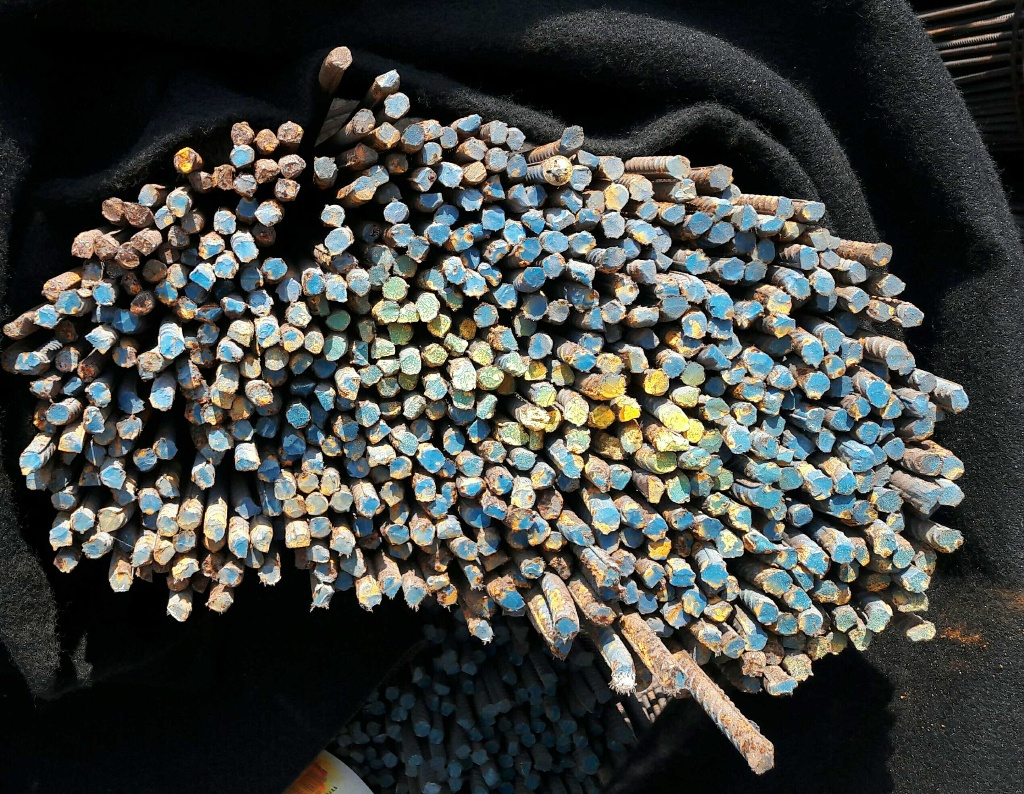dipstick: (538, 487, 566, 521), (494, 420, 529, 446), (744, 347, 770, 379), (724, 424, 751, 454), (185, 337, 212, 366), (707, 162, 734, 191), (717, 530, 744, 558), (278, 153, 307, 179), (462, 268, 488, 297), (496, 585, 525, 611), (665, 474, 691, 503), (341, 546, 366, 576), (735, 300, 762, 327), (785, 653, 812, 680), (655, 429, 688, 451), (519, 403, 548, 428), (615, 274, 639, 304), (358, 576, 380, 608), (198, 231, 224, 258), (515, 238, 541, 265), (705, 343, 732, 369), (605, 184, 630, 212), (55, 291, 84, 315), (442, 255, 465, 285), (87, 328, 113, 354), (285, 522, 311, 548), (234, 236, 261, 261), (137, 352, 162, 379), (326, 229, 353, 254), (569, 524, 596, 549), (558, 453, 585, 478), (670, 178, 697, 203), (522, 293, 547, 320), (603, 436, 630, 461), (79, 463, 103, 491), (468, 341, 496, 365), (569, 262, 597, 286), (751, 745, 775, 773), (417, 293, 439, 323), (748, 486, 781, 506), (549, 553, 574, 579), (566, 427, 591, 453), (804, 373, 829, 399), (113, 342, 137, 369), (478, 259, 502, 286), (420, 446, 444, 473), (592, 507, 619, 531), (114, 416, 142, 439), (82, 536, 110, 559), (568, 233, 596, 256), (710, 292, 733, 320), (696, 517, 724, 540), (762, 572, 790, 595), (571, 288, 600, 310), (235, 197, 260, 222), (458, 187, 483, 212), (346, 269, 371, 294), (323, 277, 348, 302), (531, 464, 556, 489), (599, 155, 624, 180), (719, 258, 744, 283), (123, 200, 147, 226), (453, 364, 477, 390), (503, 352, 529, 376), (687, 212, 713, 236), (255, 202, 282, 225), (188, 264, 215, 287), (182, 380, 209, 403), (306, 490, 329, 517), (371, 300, 398, 323), (336, 373, 359, 400), (544, 159, 571, 182), (679, 313, 706, 336), (934, 528, 961, 551), (349, 338, 371, 366), (386, 323, 414, 345), (662, 603, 690, 625), (647, 614, 675, 636), (745, 532, 774, 553), (233, 173, 258, 197), (228, 322, 252, 347), (86, 381, 111, 405), (248, 382, 273, 406), (329, 532, 353, 557), (374, 122, 399, 146), (314, 154, 338, 179), (522, 209, 546, 234), (478, 366, 503, 390), (512, 486, 536, 511), (661, 353, 685, 378), (704, 492, 729, 516), (213, 209, 236, 235), (284, 303, 310, 326), (257, 320, 280, 346), (118, 271, 144, 294), (485, 175, 508, 201), (601, 247, 627, 270), (707, 316, 733, 339), (611, 669, 637, 692), (663, 668, 686, 694), (799, 609, 822, 635), (771, 366, 797, 389), (15, 352, 42, 374), (203, 513, 225, 540), (478, 528, 500, 555), (867, 379, 889, 406), (366, 446, 394, 467), (465, 506, 493, 527), (547, 208, 575, 229), (521, 266, 549, 287), (660, 295, 688, 316), (786, 436, 814, 457), (590, 462, 610, 491), (769, 678, 798, 698), (899, 592, 928, 612), (278, 327, 302, 351), (113, 308, 137, 332), (41, 280, 65, 304), (159, 336, 183, 360), (422, 268, 446, 292), (468, 418, 492, 442), (682, 362, 706, 386), (788, 274, 812, 298), (883, 345, 907, 369), (165, 262, 188, 287), (70, 510, 95, 533), (190, 466, 215, 489), (438, 162, 461, 187), (481, 207, 504, 232), (442, 284, 465, 309), (474, 303, 497, 328), (482, 438, 505, 463), (563, 125, 586, 150), (494, 284, 517, 309), (600, 374, 625, 397), (590, 403, 613, 428), (622, 505, 647, 528), (649, 537, 672, 562), (840, 342, 863, 367), (778, 466, 803, 489), (828, 496, 853, 519), (133, 231, 159, 253), (118, 391, 144, 413), (27, 379, 53, 401), (526, 183, 548, 209), (504, 219, 526, 245), (482, 239, 508, 261), (369, 245, 395, 267), (443, 430, 465, 456), (681, 280, 707, 302), (704, 564, 726, 590), (879, 273, 905, 295), (766, 291, 792, 313), (96, 509, 123, 530), (541, 232, 568, 253), (449, 402, 476, 423), (687, 249, 708, 276), (786, 589, 813, 610), (49, 492, 77, 512), (48, 528, 76, 548), (645, 475, 665, 503), (329, 46, 352, 70), (231, 121, 254, 145), (172, 147, 195, 171), (252, 221, 276, 244), (129, 291, 153, 314), (182, 402, 206, 425), (149, 387, 173, 410), (133, 448, 157, 471), (257, 560, 280, 584), (385, 93, 408, 117), (321, 204, 345, 227), (355, 401, 379, 424), (513, 447, 536, 471), (457, 537, 480, 561), (476, 596, 499, 620), (802, 202, 826, 225), (570, 347, 594, 370), (565, 398, 588, 422), (645, 371, 669, 394), (645, 517, 668, 541), (597, 528, 620, 552), (802, 342, 825, 366), (873, 531, 896, 555), (212, 165, 234, 190), (276, 280, 301, 302), (94, 236, 116, 261), (54, 349, 76, 374), (156, 476, 181, 498), (174, 558, 199, 580), (201, 443, 226, 465), (287, 403, 309, 428), (399, 348, 421, 373), (528, 521, 550, 546), (601, 212, 623, 237), (632, 221, 657, 243), (529, 334, 554, 356), (733, 403, 758, 425), (699, 627, 721, 652), (805, 552, 830, 574), (876, 491, 901, 513), (230, 145, 256, 166), (262, 259, 288, 280), (238, 266, 264, 287), (217, 342, 243, 363), (312, 561, 338, 582), (310, 584, 331, 610), (331, 489, 352, 515), (487, 120, 508, 146), (325, 335, 346, 361), (708, 222, 734, 243), (737, 205, 758, 231), (550, 365, 576, 386), (742, 376, 763, 402), (683, 591, 704, 617), (905, 570, 931, 591), (256, 128, 276, 155), (331, 253, 358, 273), (476, 393, 496, 420), (755, 237, 775, 264), (683, 448, 710, 468), (704, 603, 731, 623), (782, 632, 809, 652), (109, 486, 137, 505), (278, 122, 301, 145), (174, 297, 197, 320), (116, 244, 139, 267), (101, 198, 124, 221), (35, 305, 58, 328), (259, 493, 282, 516), (289, 352, 312, 375), (412, 522, 435, 545), (558, 471, 581, 494), (560, 187, 583, 210), (667, 155, 690, 178), (717, 334, 740, 357), (700, 430, 723, 453), (848, 396, 871, 419), (757, 461, 780, 484), (179, 364, 201, 388), (458, 114, 482, 136), (463, 137, 487, 159), (389, 224, 413, 246), (395, 432, 417, 456), (423, 376, 447, 398), (414, 478, 436, 502), (491, 469, 513, 493), (584, 187, 606, 211), (583, 307, 605, 331), (601, 300, 625, 322), (746, 259, 768, 283), (681, 335, 703, 359), (731, 507, 753, 531), (919, 454, 943, 476), (865, 608, 887, 632), (189, 171, 214, 192), (167, 193, 188, 218), (248, 291, 273, 312), (100, 466, 125, 487), (209, 430, 234, 451), (383, 277, 408, 298), (358, 365, 383, 386), (404, 395, 425, 420), (510, 509, 535, 530), (620, 527, 645, 548), (850, 624, 871, 649), (315, 383, 335, 409), (416, 166, 436, 192), (325, 311, 351, 331), (633, 328, 659, 348), (668, 510, 694, 530), (949, 387, 969, 413), (381, 573, 400, 600), (321, 470, 340, 497), (409, 234, 428, 261), (673, 388, 700, 407), (178, 210, 201, 232), (156, 280, 179, 302), (211, 386, 233, 409), (265, 345, 288, 367), (83, 411, 106, 433), (302, 450, 324, 473), (354, 142, 377, 164), (463, 161, 485, 184), (302, 272, 325, 294), (313, 357, 335, 380), (380, 483, 403, 505), (406, 585, 429, 607), (435, 584, 458, 606), (631, 177, 653, 200), (622, 237, 644, 260), (543, 255, 566, 277), (547, 298, 569, 321), (855, 471, 877, 494), (854, 501, 876, 524), (892, 545, 914, 568), (833, 543, 856, 565), (80, 261, 101, 285), (52, 553, 76, 574), (110, 568, 131, 592), (166, 600, 190, 621), (349, 294, 373, 315), (343, 438, 367, 459), (432, 550, 453, 574), (630, 305, 658, 323), (579, 332, 603, 353), (642, 564, 663, 588), (797, 246, 818, 270), (754, 436, 778, 457), (812, 477, 833, 501), (354, 108, 374, 133), (487, 148, 507, 173), (412, 416, 432, 441), (523, 361, 548, 381), (735, 231, 755, 256), (870, 301, 895, 321), (508, 153, 527, 179), (382, 203, 408, 222), (721, 180, 740, 206), (71, 235, 93, 257), (173, 531, 195, 553), (199, 554, 221, 576), (395, 254, 417, 276), (425, 343, 447, 365), (498, 329, 520, 351), (667, 409, 689, 431), (791, 506, 813, 528), (793, 568, 815, 590), (834, 473, 856, 495), (915, 551, 937, 573), (826, 632, 848, 654), (276, 177, 297, 200), (5, 317, 28, 338), (231, 397, 252, 420), (155, 541, 176, 564), (180, 507, 201, 530), (218, 566, 241, 587), (274, 477, 297, 498), (284, 434, 307, 455), (357, 494, 378, 517), (426, 223, 449, 244), (368, 421, 389, 444), (463, 564, 484, 587), (557, 614, 578, 637), (571, 166, 592, 189), (636, 260, 657, 283), (513, 315, 536, 336), (621, 429, 642, 452), (609, 467, 630, 490), (690, 474, 713, 495), (614, 552, 635, 575), (636, 593, 659, 614), (774, 613, 797, 634), (812, 273, 835, 294), (882, 438, 905, 459), (850, 448, 873, 469), (254, 159, 278, 179), (214, 256, 238, 276), (282, 498, 306, 518), (377, 182, 401, 202), (367, 265, 391, 285), (372, 337, 396, 357), (451, 388, 475, 408), (651, 250, 675, 270), (629, 348, 649, 372), (822, 328, 842, 352), (830, 377, 854, 397), (907, 624, 935, 641), (873, 557, 901, 574), (59, 434, 84, 453), (253, 527, 272, 552), (509, 570, 534, 589), (674, 532, 693, 557), (220, 296, 246, 314), (18, 452, 44, 470), (457, 478, 483, 496), (389, 541, 415, 559), (531, 386, 557, 404), (54, 320, 76, 341), (33, 411, 54, 433), (310, 517, 331, 539), (321, 435, 343, 456), (451, 228, 472, 250), (338, 419, 360, 440), (391, 457, 412, 479), (444, 333, 466, 354), (427, 496, 448, 518), (577, 148, 599, 169), (663, 204, 685, 225), (744, 630, 765, 652), (743, 654, 765, 675), (810, 228, 831, 250), (763, 415, 785, 436), (307, 544, 330, 564), (354, 176, 377, 196), (396, 302, 419, 322), (347, 458, 370, 478), (485, 500, 508, 520), (635, 200, 658, 220), (849, 262, 872, 282), (940, 486, 963, 506), (195, 305, 222, 322), (703, 399, 730, 416), (720, 367, 747, 384), (45, 404, 69, 423), (138, 493, 162, 512), (160, 514, 179, 538), (521, 558, 545, 577), (618, 402, 642, 421), (815, 291, 839, 310), (901, 304, 920, 328), (817, 580, 836, 604), (834, 610, 858, 629), (177, 247, 202, 265), (435, 206, 460, 224), (385, 525, 410, 543), (769, 337, 794, 355), (466, 223, 492, 240), (438, 521, 464, 538), (865, 573, 891, 590), (203, 403, 224, 424), (111, 436, 132, 457), (310, 295, 331, 316), (711, 199, 732, 220), (764, 520, 785, 541), (848, 291, 869, 312), (155, 439, 177, 459), (258, 460, 280, 480), (296, 471, 318, 491), (428, 315, 448, 337), (437, 457, 457, 479), (462, 455, 484, 475), (778, 548, 798, 570), (762, 644, 784, 664), (857, 423, 879, 443), (261, 366, 284, 385), (85, 442, 104, 465), (235, 452, 258, 471), (404, 123, 423, 146), (357, 318, 376, 341), (378, 400, 401, 419), (485, 553, 508, 572), (654, 451, 677, 470), (714, 467, 733, 490), (830, 411, 853, 430), (887, 511, 906, 534), (165, 575, 192, 591), (235, 500, 259, 518), (418, 193, 445, 209), (512, 183, 530, 207), (553, 633, 569, 660), (776, 195, 794, 219), (656, 281, 680, 299), (874, 242, 892, 266), (764, 389, 782, 413), (686, 418, 703, 443), (168, 225, 189, 245), (94, 284, 115, 304), (244, 547, 264, 568), (235, 419, 255, 440), (255, 418, 276, 438), (353, 515, 373, 536), (397, 370, 418, 390), (706, 376, 727, 396), (589, 609, 617, 624), (742, 675, 763, 695), (825, 355, 845, 376), (197, 324, 219, 343), (143, 260, 165, 279), (49, 469, 68, 491), (277, 447, 296, 469), (423, 119, 442, 141), (461, 246, 480, 268), (505, 530, 527, 549), (473, 620, 492, 642), (548, 531, 567, 553), (599, 353, 621, 372), (756, 603, 778, 622), (376, 71, 399, 89), (439, 125, 457, 148), (424, 143, 442, 166), (305, 332, 323, 355), (653, 227, 671, 250), (207, 595, 231, 612), (546, 409, 563, 433), (217, 373, 237, 393), (132, 546, 152, 566), (334, 571, 354, 591), (425, 400, 445, 420), (601, 566, 621, 586), (821, 249, 841, 269), (137, 184, 156, 205), (241, 359, 262, 378), (26, 474, 47, 493), (116, 531, 135, 552), (389, 153, 408, 174), (885, 399, 904, 420), (944, 457, 963, 478), (359, 530, 381, 548), (360, 223, 382, 241), (704, 455, 722, 477), (783, 388, 801, 410), (808, 637, 826, 659), (854, 543, 870, 567), (186, 283, 206, 302), (103, 259, 122, 279), (140, 512, 159, 532), (370, 164, 389, 184), (497, 375, 516, 395), (785, 219, 805, 238), (656, 580, 675, 600), (724, 638, 744, 657), (840, 562, 859, 582), (155, 207, 173, 228), (306, 424, 324, 445), (378, 357, 399, 375), (899, 355, 917, 376), (806, 409, 824, 430), (818, 431, 836, 452), (920, 489, 938, 510), (671, 569, 696, 584), (772, 320, 797, 335), (507, 128, 524, 150), (915, 418, 937, 435), (3, 352, 19, 375), (310, 404, 326, 427), (529, 429, 545, 452), (759, 218, 782, 234), (442, 480, 456, 506), (160, 244, 179, 263), (372, 466, 391, 485), (840, 312, 859, 331), (76, 361, 94, 381), (60, 377, 80, 395), (204, 536, 228, 551), (290, 380, 314, 395), (336, 395, 356, 413), (378, 378, 399, 395), (766, 502, 787, 519), (774, 449, 795, 466), (98, 423, 114, 445), (622, 582, 638, 604), (723, 579, 739, 601), (874, 465, 890, 487), (599, 586, 622, 601), (913, 392, 928, 415), (918, 373, 937, 391), (693, 644, 710, 664), (460, 318, 476, 339), (601, 325, 622, 341), (427, 575, 449, 590), (927, 402, 945, 420), (389, 505, 408, 522), (90, 305, 110, 321), (581, 208, 601, 224), (716, 412, 736, 428), (871, 444, 886, 465), (880, 420, 897, 438), (215, 278, 230, 298), (152, 560, 172, 575), (194, 573, 209, 593), (233, 537, 247, 558), (256, 401, 277, 415), (834, 584, 850, 602), (667, 330, 681, 348), (60, 449, 75, 465)
